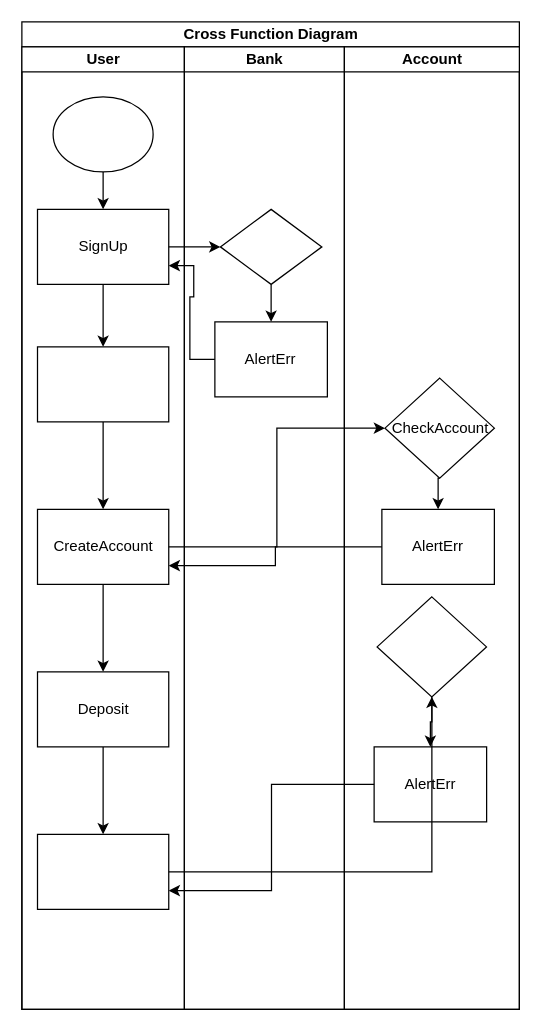
Image size: 541x1031. Some labels were removed from this diagram. The centre of each missing label's shape, as x and y in pixels:
"CheckBalance" belongs at (x=431, y=646).
"CheckUser" belongs at (x=270, y=246).
"SignIn" belongs at (x=102, y=384).
"Start" belongs at (x=102, y=134).
"Withdraw" belongs at (x=102, y=871).
